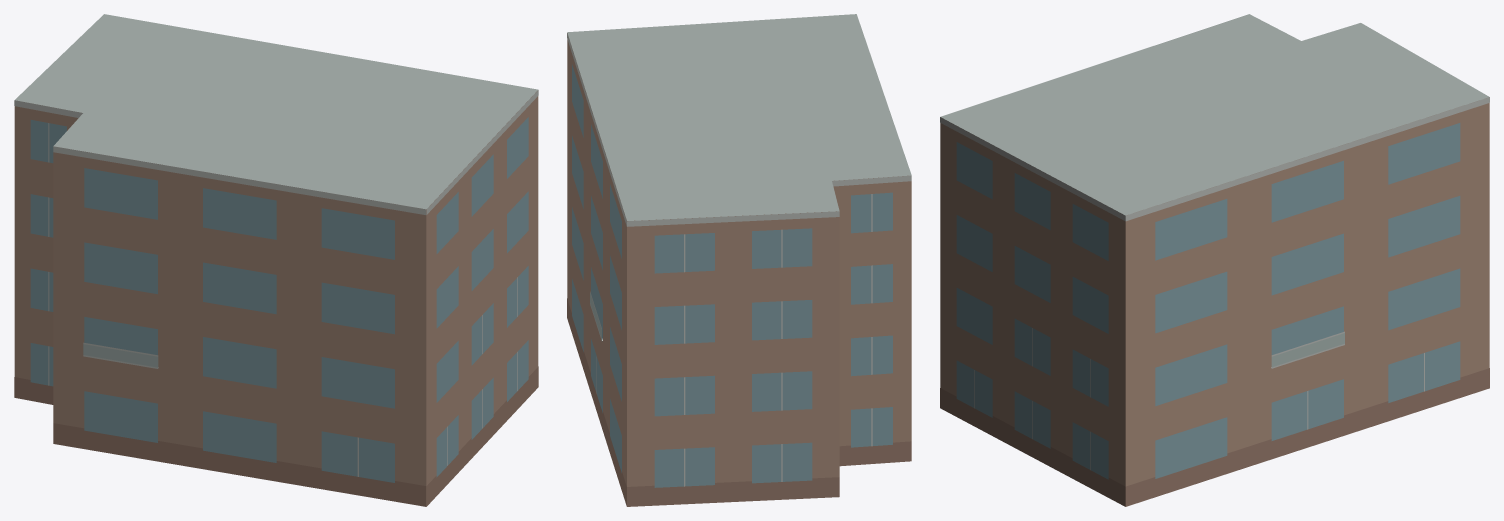
The model's file is survey-upis-32511625.glb.
The picture shows the model from 3 angles, left to right: view 1: azimuth 30°, elevation 25°; view 2: azimuth 150°, elevation 25°; view 3: azimuth 270°, elevation 25°; orthographic projection. The views are drawn at different scales.
Visible parts, largest first — view 1: survey-upis-32511625.tmp; view 2: survey-upis-32511625.tmp; view 3: survey-upis-32511625.tmp.
Part boxes in pixels (box(x1,y1,x2,y2)): survey-upis-32511625.tmp: box(14, 14, 538, 506); survey-upis-32511625.tmp: box(567, 14, 911, 506); survey-upis-32511625.tmp: box(940, 14, 1489, 506).
Size of the model in its own units: 18.12 by 12.2 by 20.87.
